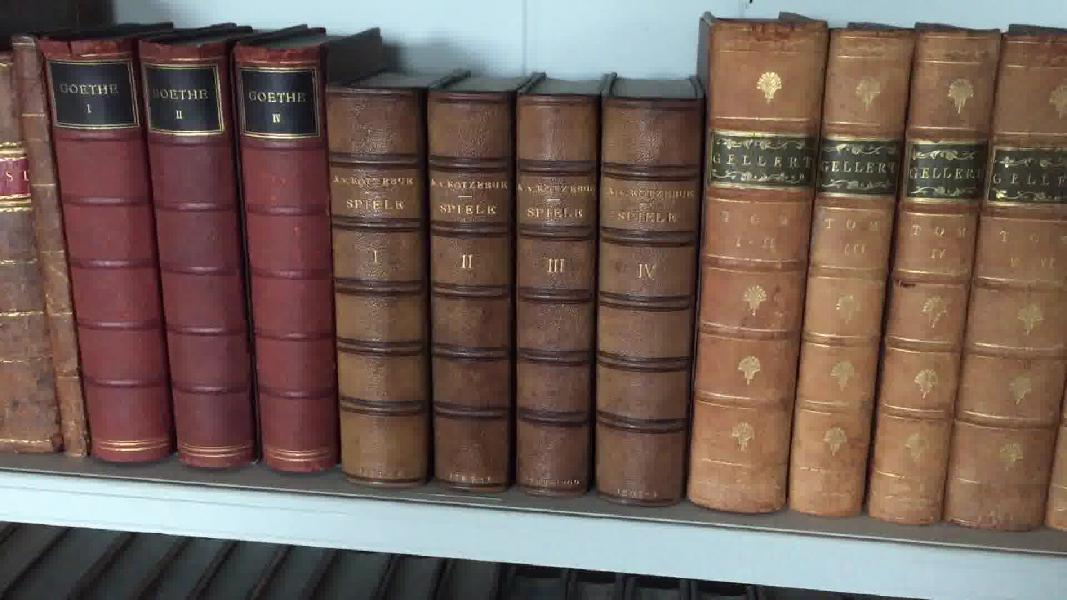Aa6-11_13: (39, 28, 331, 485)
Aa6-14_17: (329, 79, 702, 509)
Aa6-18_23: (698, 4, 1067, 539)
